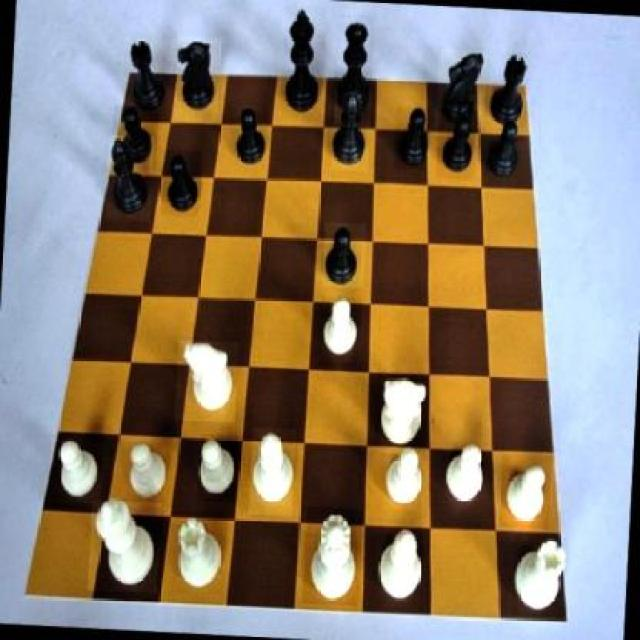bishop: (104, 136, 154, 222), (331, 90, 372, 172)
black-bishop: (280, 6, 328, 122)
black-king: (437, 49, 489, 129), (174, 37, 221, 121)
black-knight: (112, 106, 160, 171), (480, 111, 520, 184), (322, 222, 366, 288), (436, 108, 476, 180), (162, 150, 202, 218), (234, 100, 269, 174), (394, 108, 431, 172)
black-pawn: (330, 15, 374, 126)
black-queen: (118, 37, 176, 113), (491, 52, 531, 130)
black-rook: (249, 428, 297, 517), (377, 523, 428, 605)
white-bishop: (88, 500, 160, 594)
white-king: (176, 340, 240, 423), (374, 371, 431, 448)
white-knight: (500, 452, 554, 528), (49, 437, 105, 504), (442, 443, 492, 511), (125, 440, 172, 509), (318, 297, 362, 368), (197, 434, 240, 503), (383, 451, 429, 512)
white-pawn: (302, 508, 362, 608)
white-queen: (511, 536, 570, 618), (172, 517, 228, 595)
